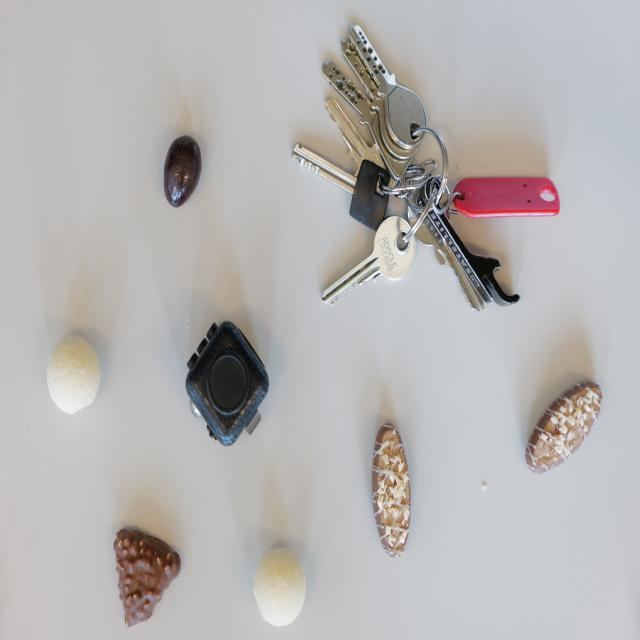Amandina: (526, 380, 603, 474), (372, 422, 410, 560)
Comtesse: (253, 547, 304, 629), (49, 336, 100, 412), (374, 72, 377, 74)
Jelly_Black: (164, 135, 202, 207)
Triangolo: (114, 523, 181, 629)
